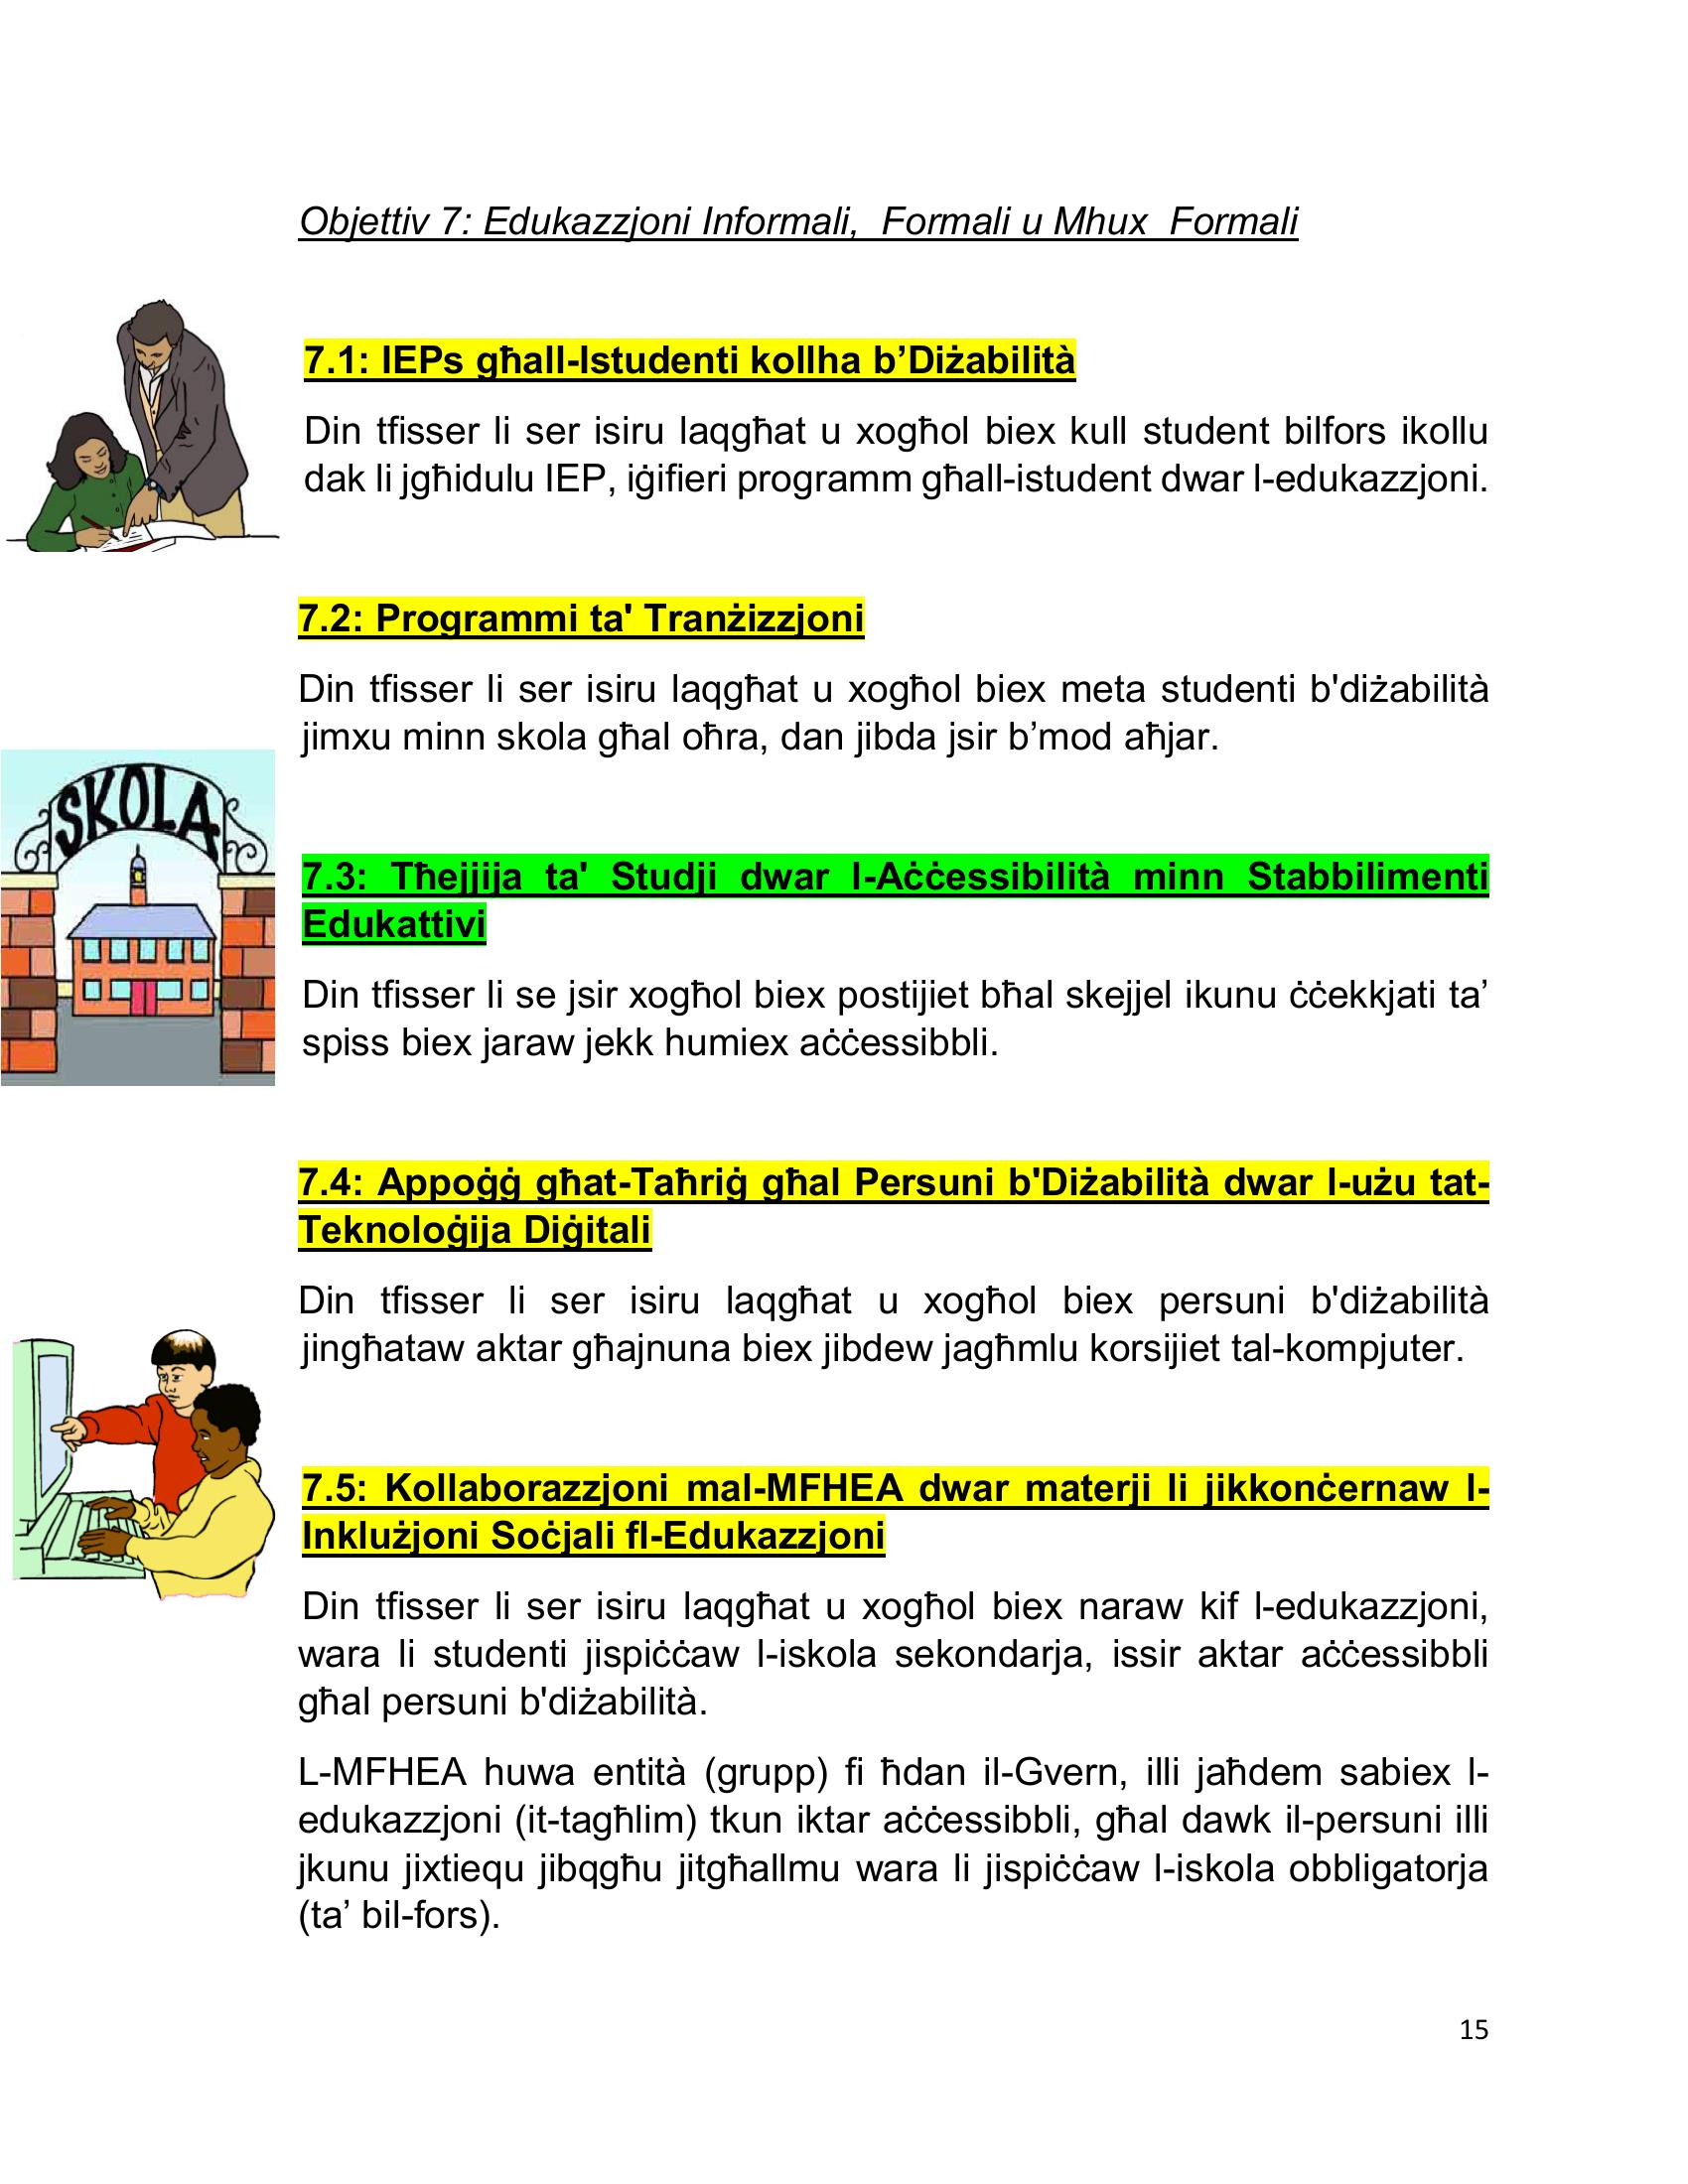text: (293, 195, 1536, 1952)
